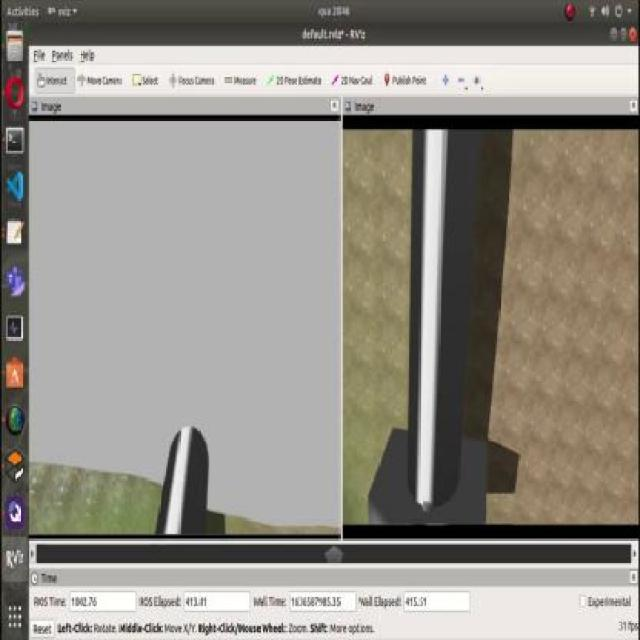gas: (404, 129, 467, 494), (158, 432, 208, 539)
